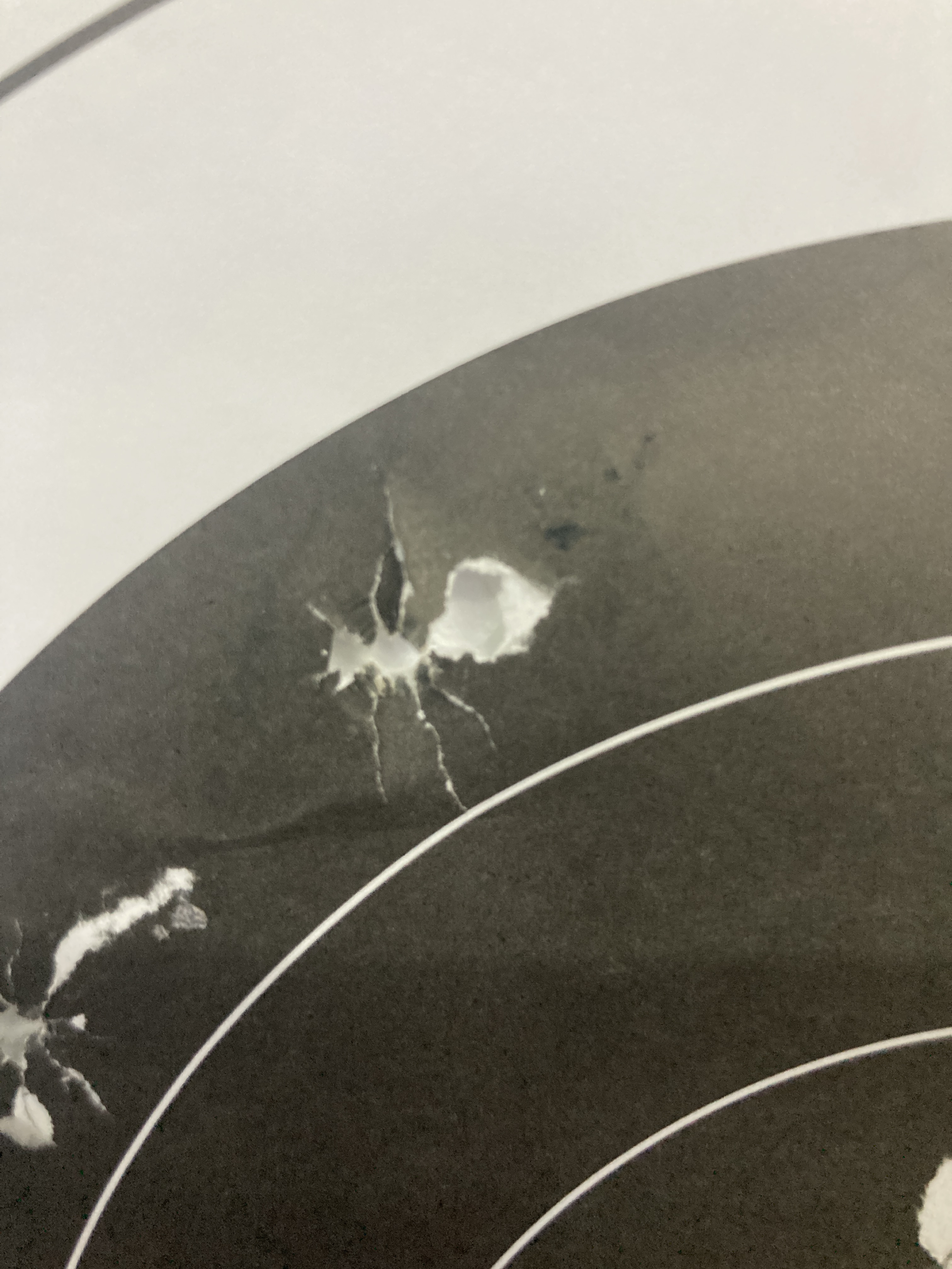hole: (296, 488, 582, 759), (0, 916, 161, 1142)
